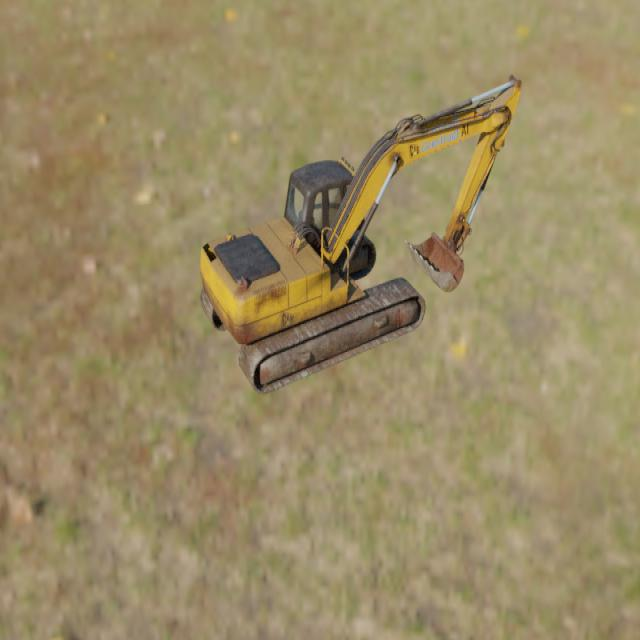excavator: (199, 73, 522, 395)
